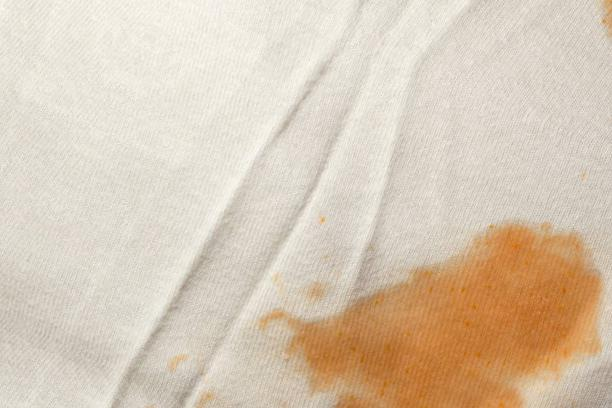stain: (259, 208, 609, 408), (586, 0, 612, 40), (192, 386, 225, 408), (167, 349, 194, 374)
